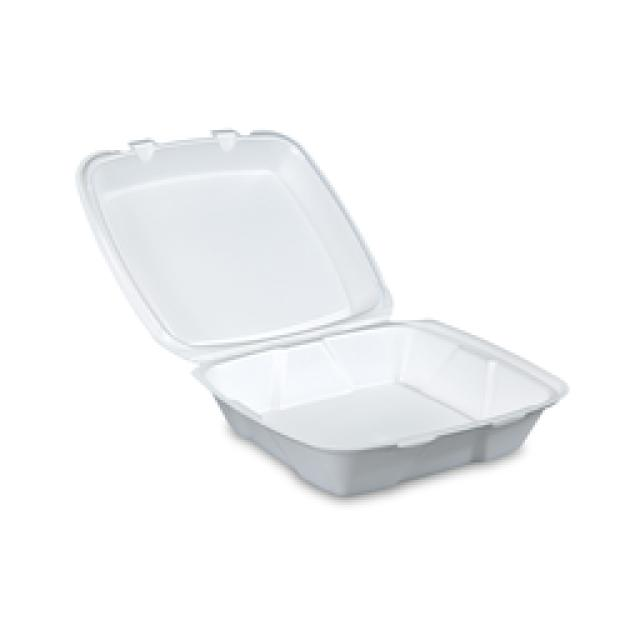styrofoam: (73, 125, 564, 498)
